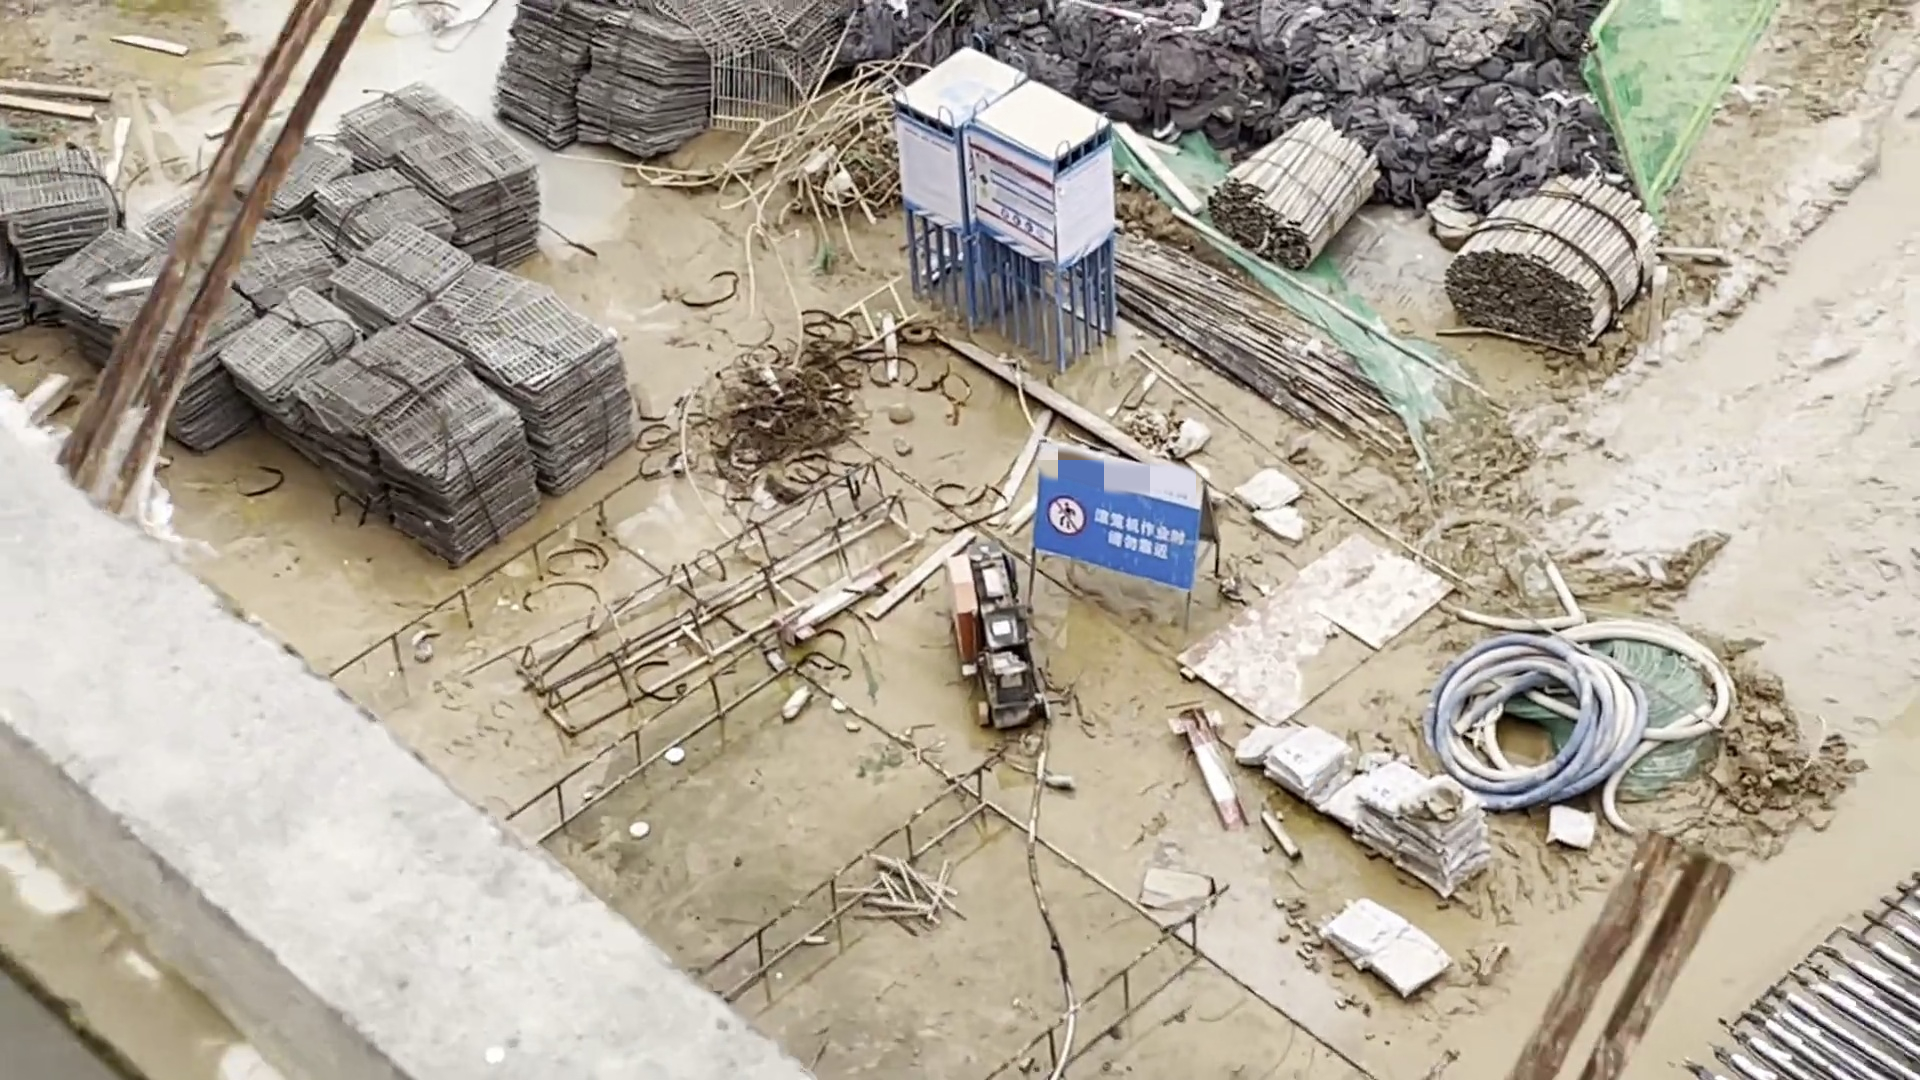slogan: (1033, 476, 1204, 589)
wood: (1452, 175, 1658, 349), (1207, 115, 1385, 272)
